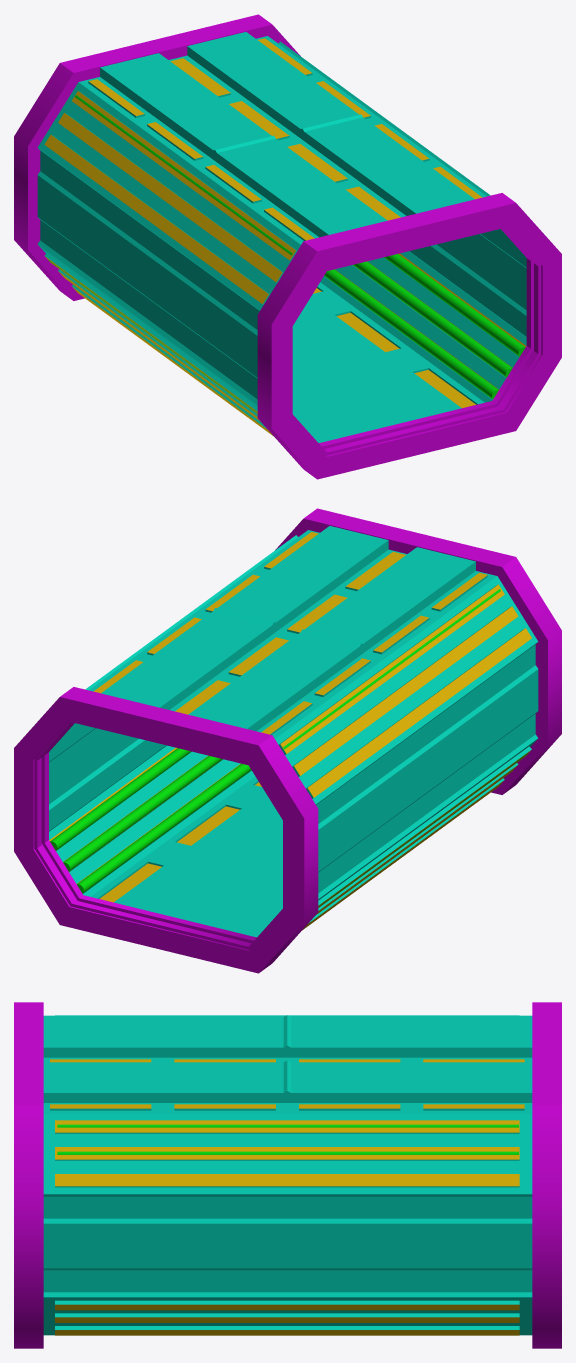
File: sf2_noaml.fbx
The picture shows the model from 3 angles, top to bottom: view 1: azimuth 30°, elevation 25°; view 2: azimuth 150°, elevation 25°; view 3: azimuth 270°, elevation 25°; orthographic projection. The views are drawn at different scales.
Visible parts, largest first — view 1: Shape001; view 2: Shape001; view 3: Shape001.
Boxes of the visible parts, bbox=[...] form: Shape001: bbox=[14, 14, 561, 479]; Shape001: bbox=[14, 508, 561, 973]; Shape001: bbox=[14, 1002, 561, 1348].
Bounding box in the file's own units: 74.62 × 56.24 × 115.
